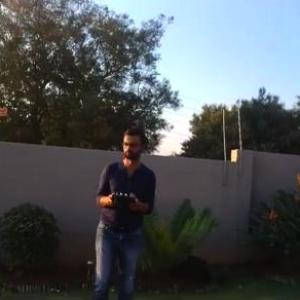follow: (88, 120, 160, 299)
